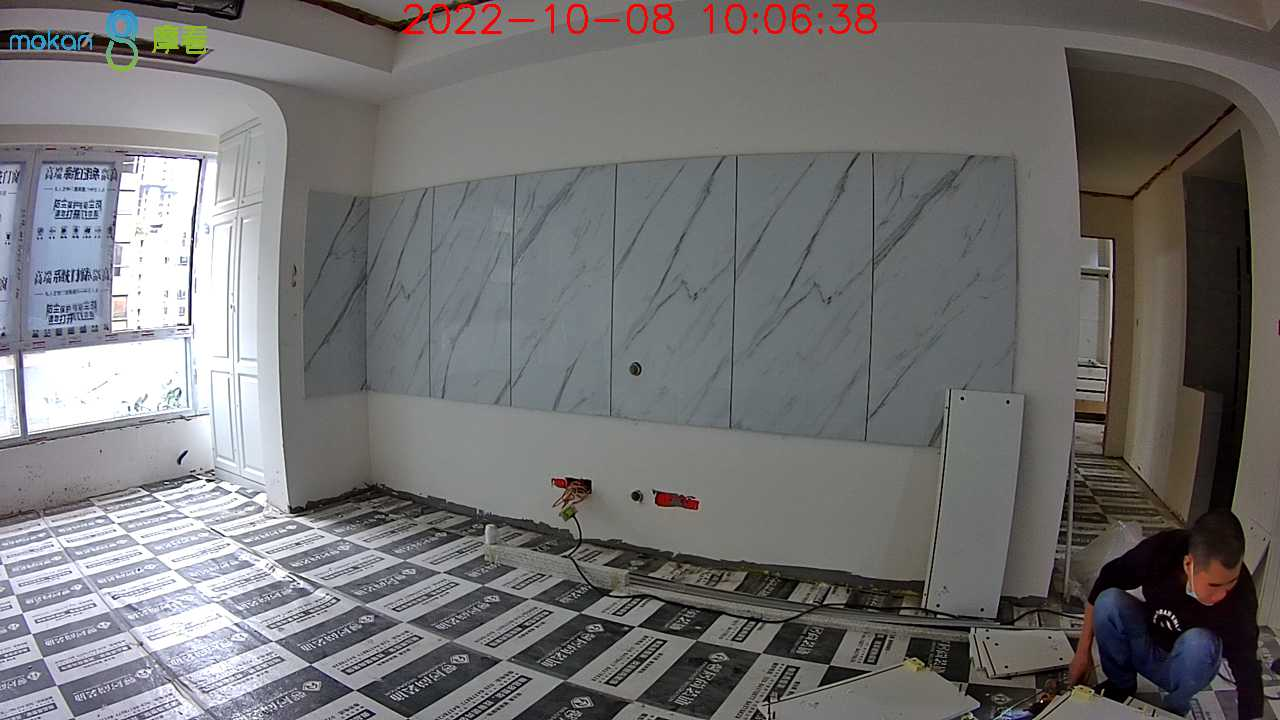people: (1067, 511, 1265, 720)
window: (2, 146, 208, 420)
